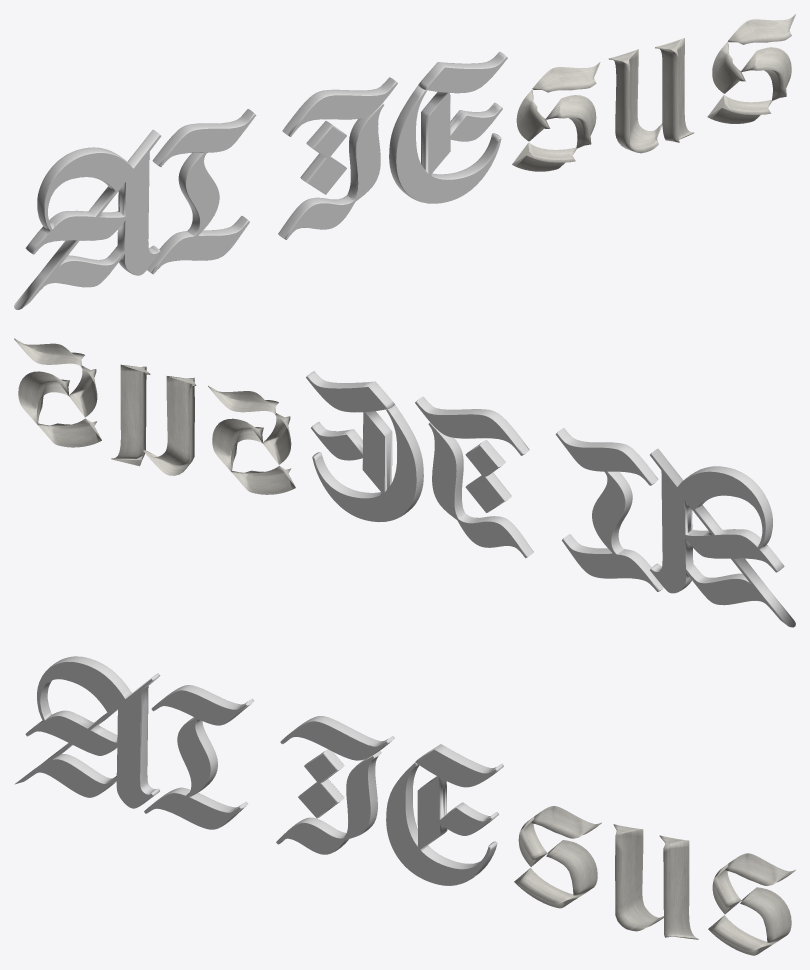
File: titles28.glb
3 renders of one model, top to bottom at view 1: azimuth 30°, elevation 25°; view 2: azimuth 150°, elevation 25°; view 3: azimuth 330°, elevation 25°, orthographic.
Parts seen in each view (by area): view 1: A, E, J, I, Curve.029, S, S2; view 2: A, E, J, I, Curve.029, S2, S; view 3: A, E, J, I, Curve.029, S, S2.
Boxes of the visible parts, x1,y1,x2,y2 form: A: (14, 129, 161, 309); E: (389, 51, 507, 203); J: (278, 77, 397, 239); I: (147, 109, 256, 274); Curve.029: (608, 38, 694, 153); S: (512, 62, 600, 171); S2: (707, 14, 795, 123); A: (650, 448, 795, 627); E: (306, 371, 423, 522); J: (415, 396, 533, 558); I: (555, 428, 663, 591); Curve.029: (111, 364, 196, 475); S2: (14, 338, 101, 447); S: (208, 386, 295, 494); A: (14, 656, 160, 808); E: (386, 744, 503, 885); J: (276, 716, 394, 854); I: (144, 685, 253, 829); Curve.029: (613, 824, 698, 939); S: (514, 806, 601, 908); S2: (708, 853, 795, 955).
Size of the model in its own units: 0.462 by 0.0809 by 0.0119.
Materials: 2 (1 with a texture image).
